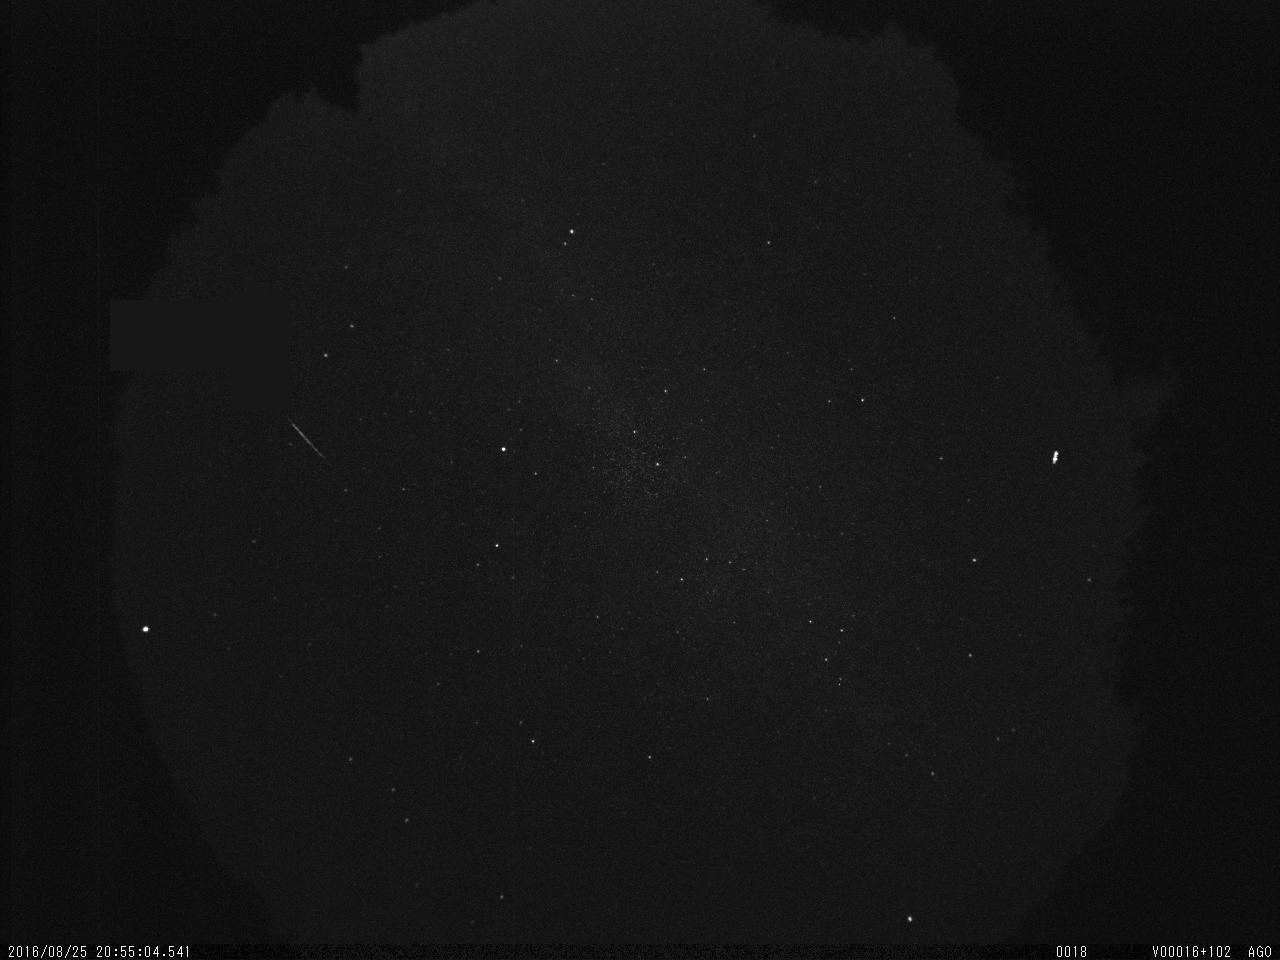meteor: (276, 416, 341, 469)
